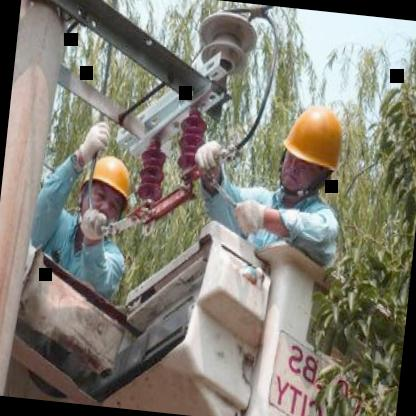helmet: (270, 93, 354, 206), (74, 147, 138, 235)
